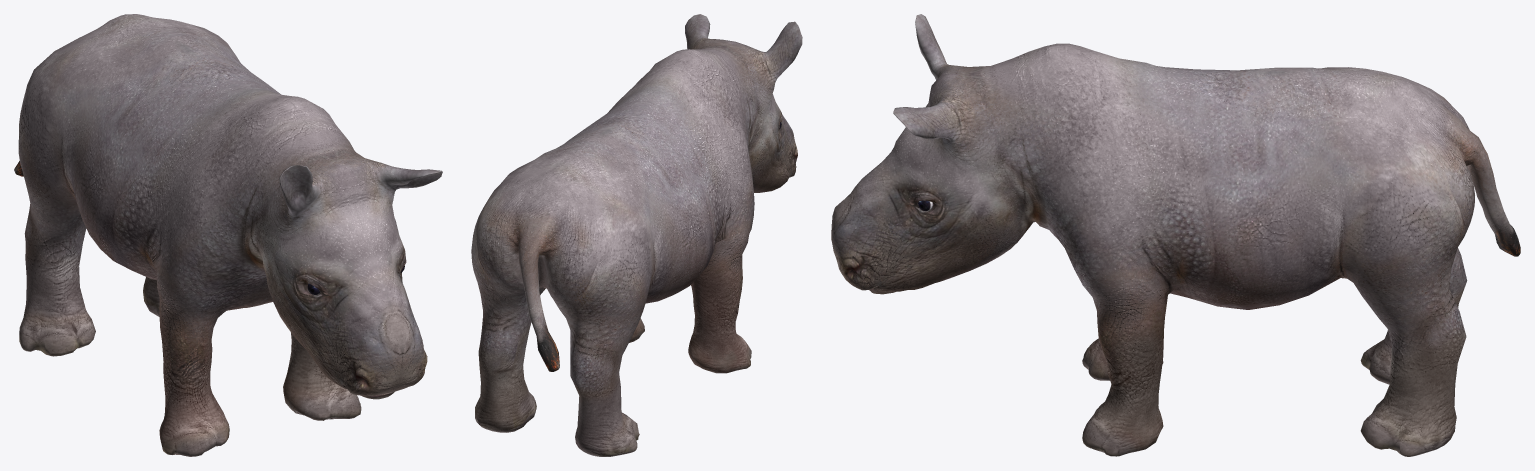
The model's file is rhino.glb.
The picture shows the model from 3 angles, left to right: view 1: azimuth 30°, elevation 25°; view 2: azimuth 150°, elevation 25°; view 3: azimuth 270°, elevation 25°; orthographic projection. The views are drawn at different scales.
Parts seen in each view (by area): view 1: Baby_Rhino_SHP_0; view 2: Baby_Rhino_SHP_0; view 3: Baby_Rhino_SHP_0.
Part boxes in pixels (<box>): Baby_Rhino_SHP_0: <box>14,14,442,456</box>; Baby_Rhino_SHP_0: <box>471,14,802,456</box>; Baby_Rhino_SHP_0: <box>831,14,1520,456</box>.
Size of the model in its own units: 0.338 by 0.5295 by 0.8992.
1 material, 1 textured.
